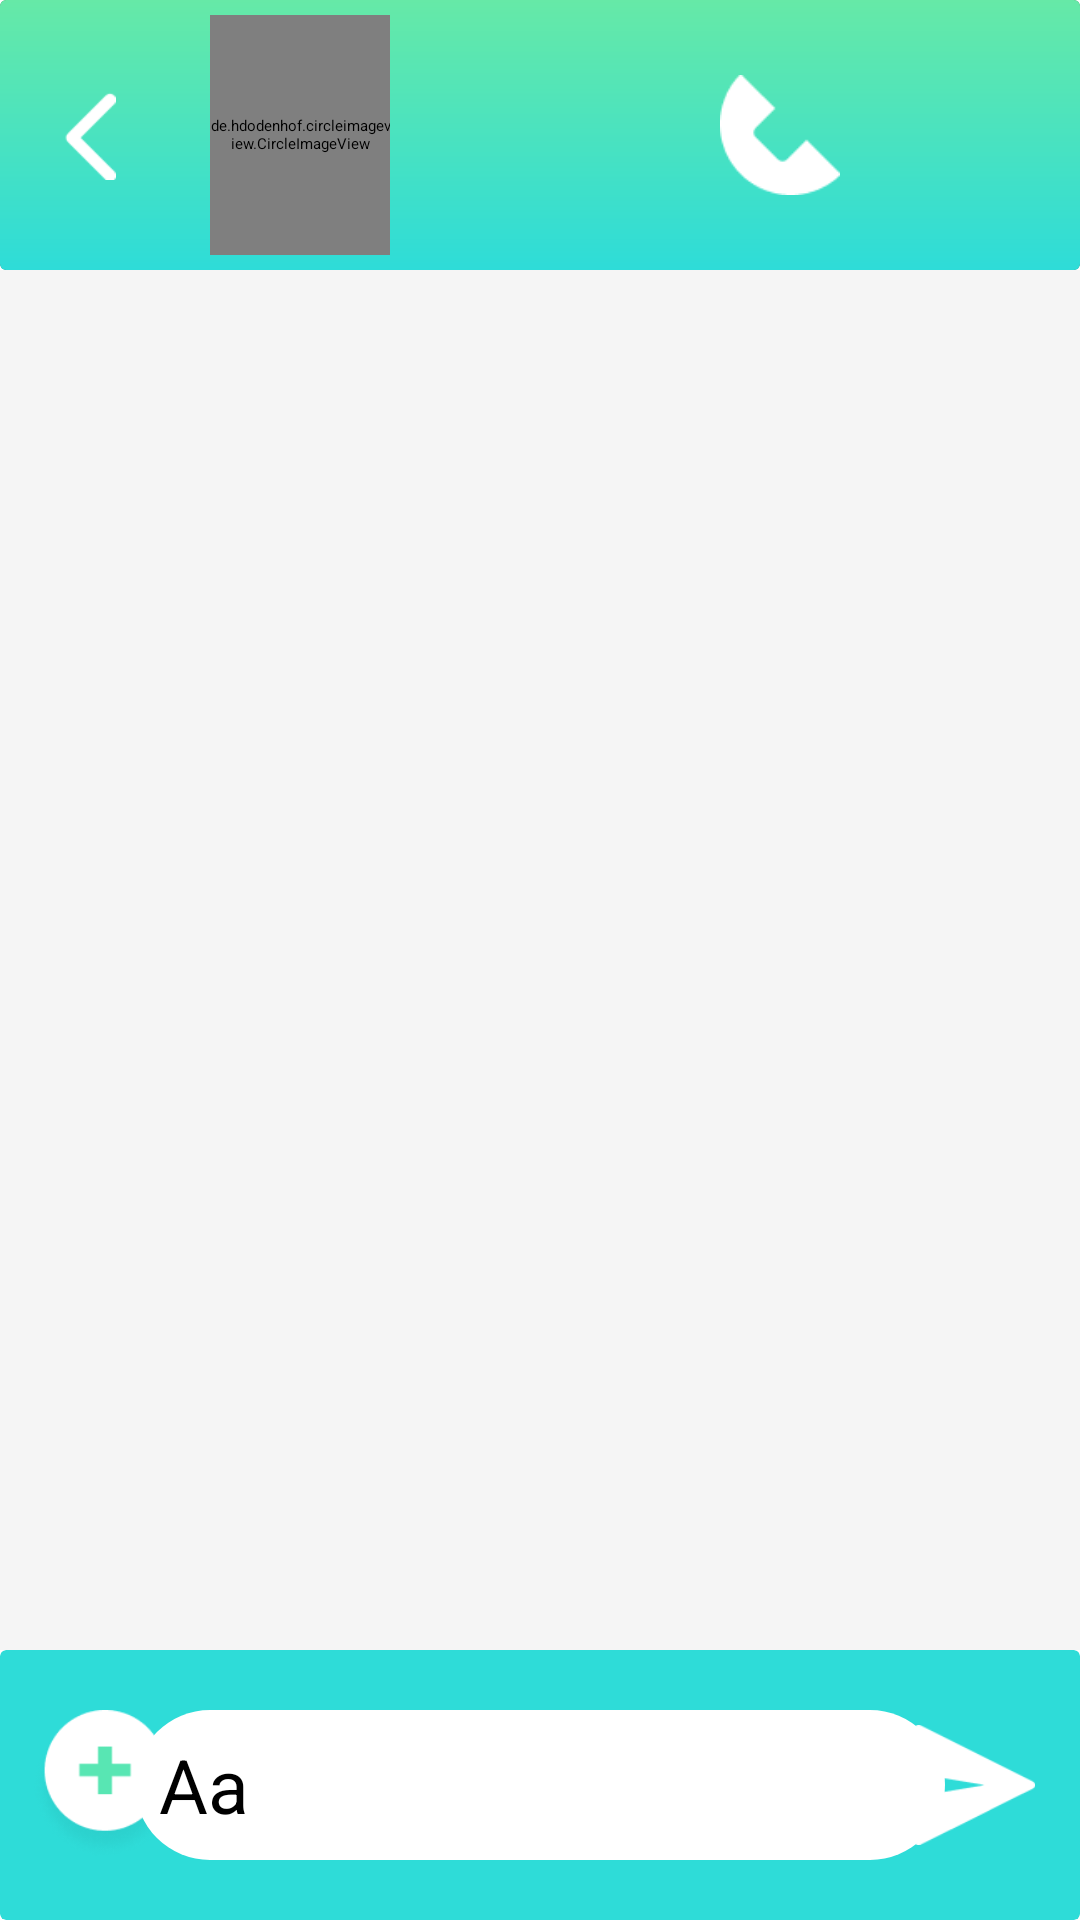

Icons on this 1080 × 1920 Android screen, each with the point to tap as point (x, y):
back arrow: point (90, 136)
call dialog: point (780, 135)
send: point (975, 1785)
